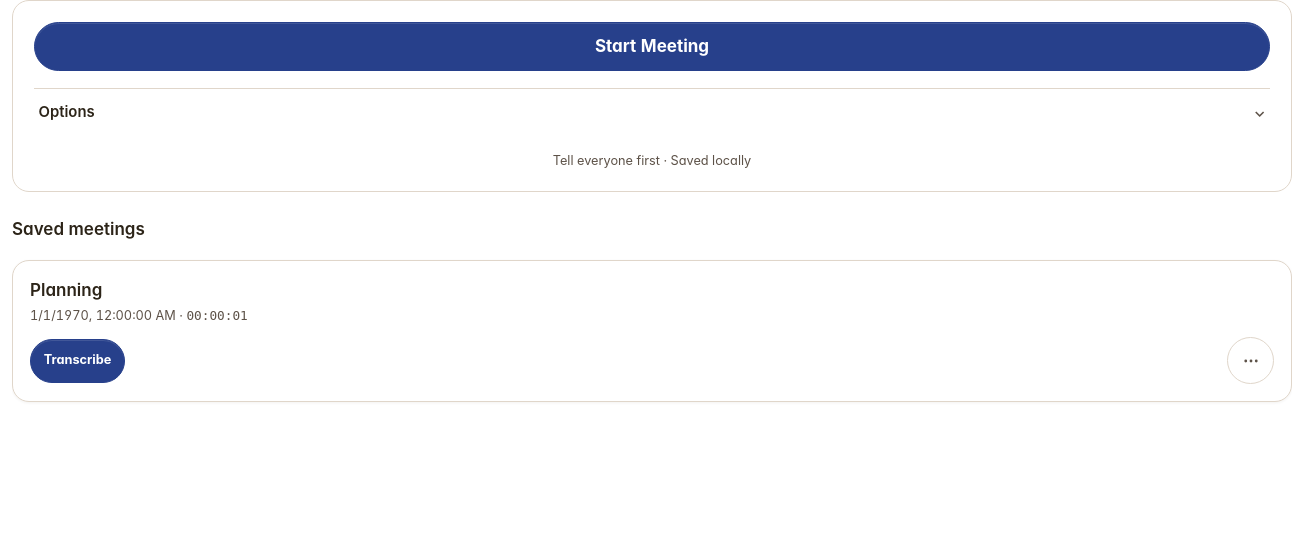
Meetings › requires inline confirmation before recoverable deletion
Click the button named "More actions for Planning": (1251, 361) [1227, 338, 1274, 384]
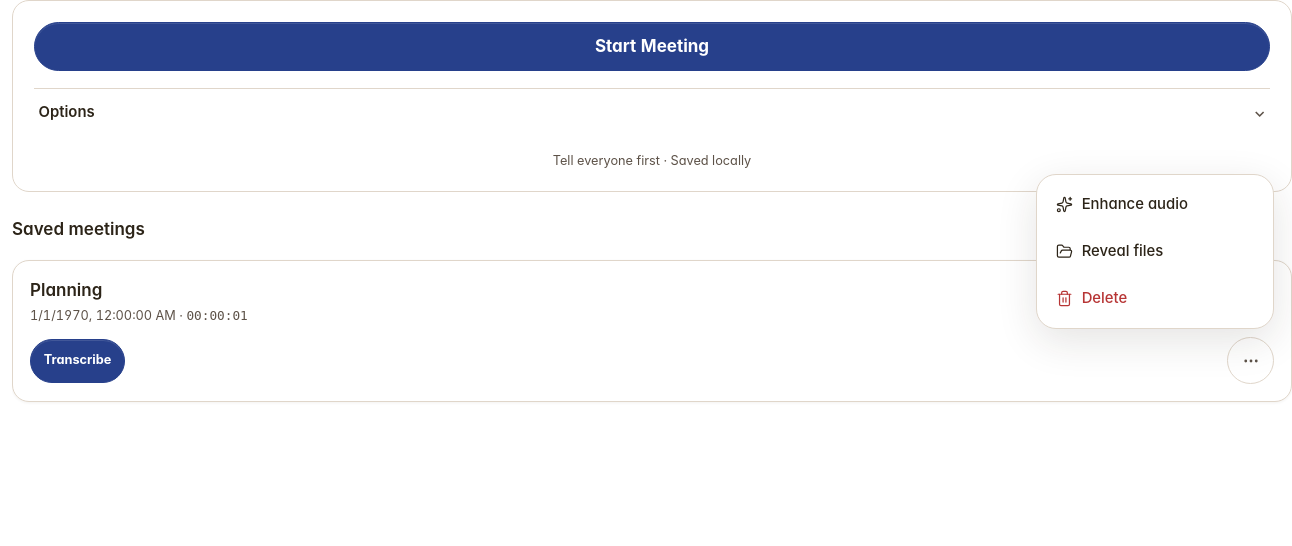
Expected: the menu item "Delete" is shown
Click the menu item "Delete": (1155, 298) [1043, 275, 1267, 322]
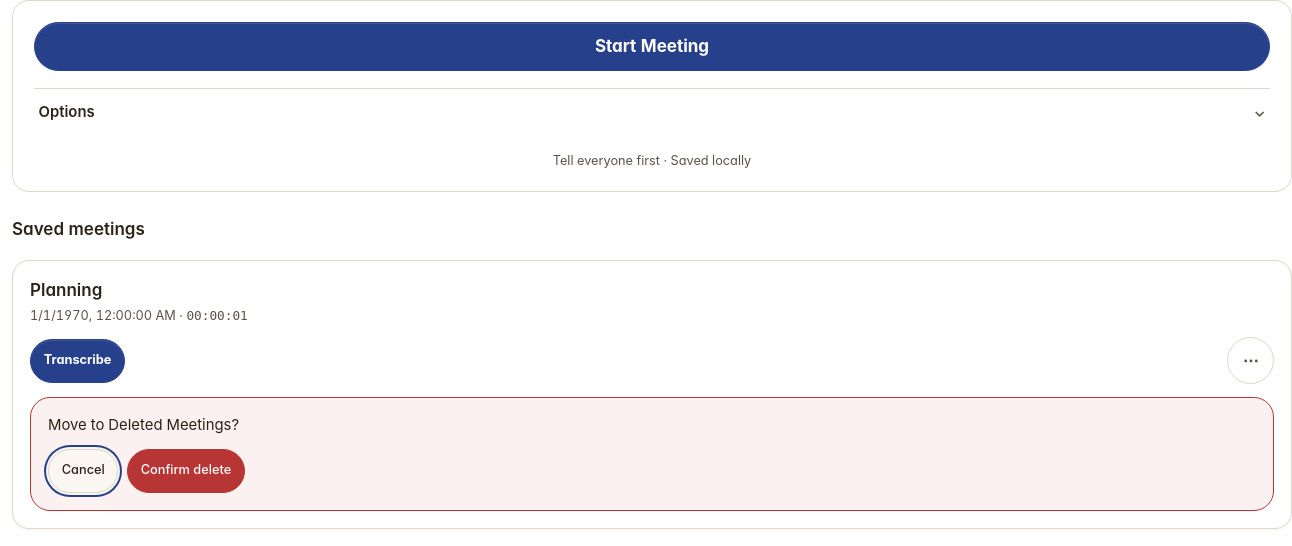
Expected: the button "Cancel" is shown
Click the button "Cancel": (83, 471) [48, 449, 118, 493]
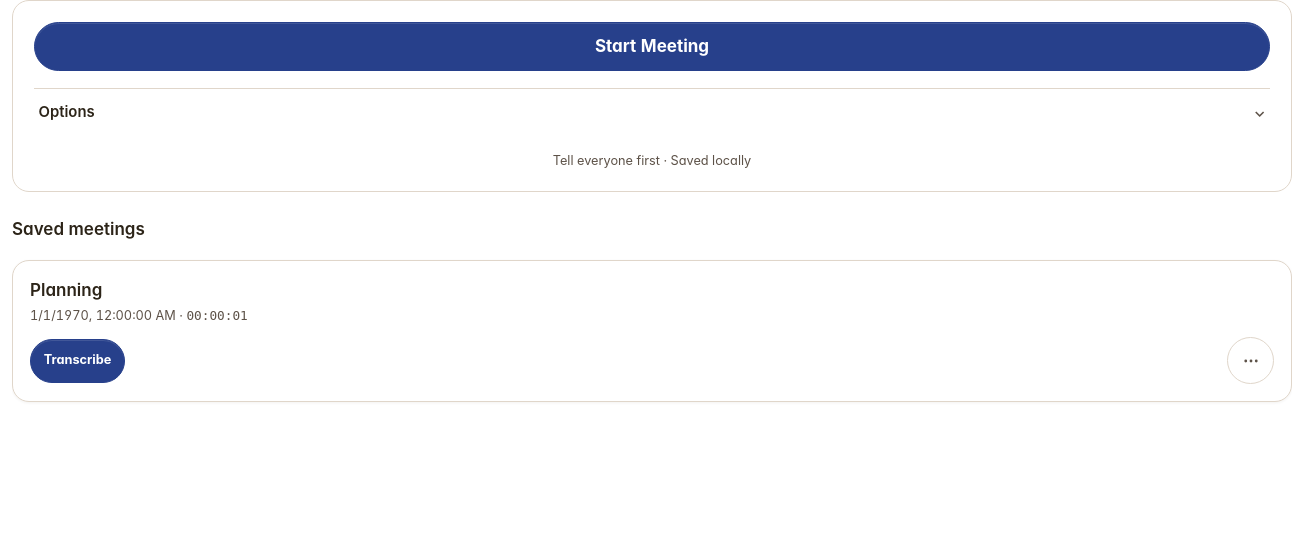
Click the button named "More actions for Planning": (1251, 361) [1227, 338, 1274, 384]
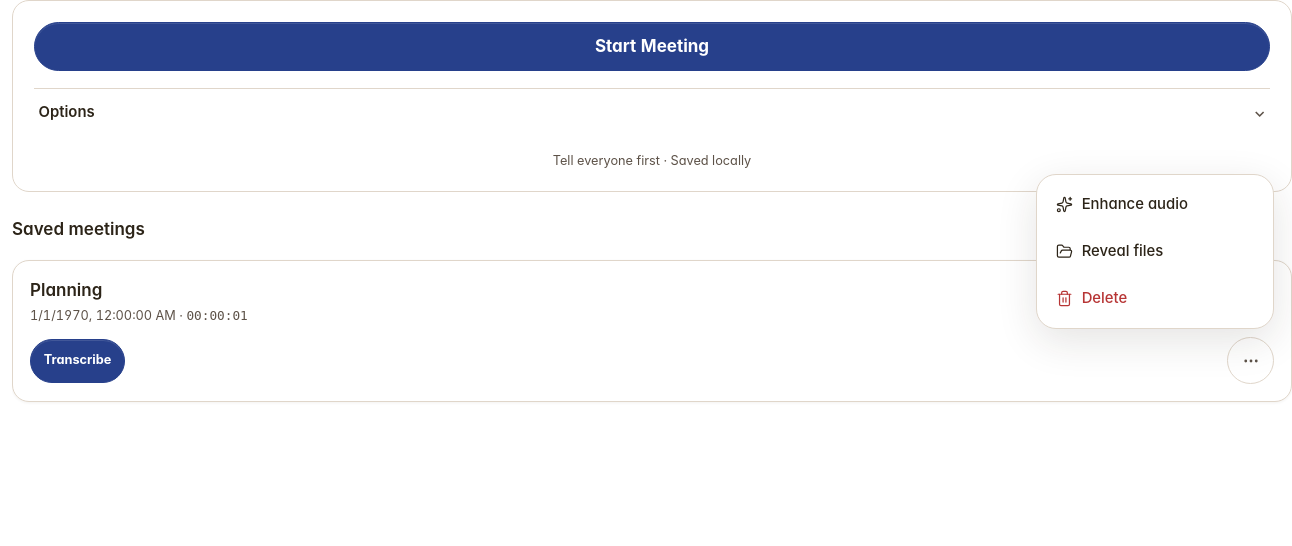
Expected: the menu item "Delete" is shown
Click the menu item "Delete": (1155, 298) [1043, 275, 1267, 322]
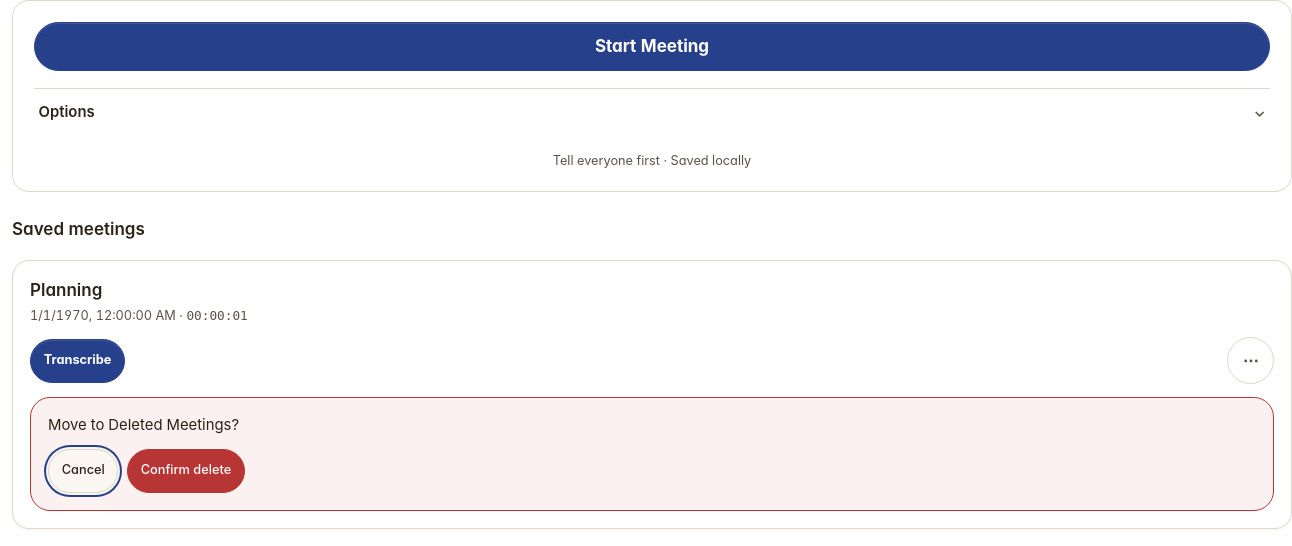
Expected: the button "Confirm delete" is shown
Click the button "Confirm delete": (186, 471) [127, 449, 245, 493]
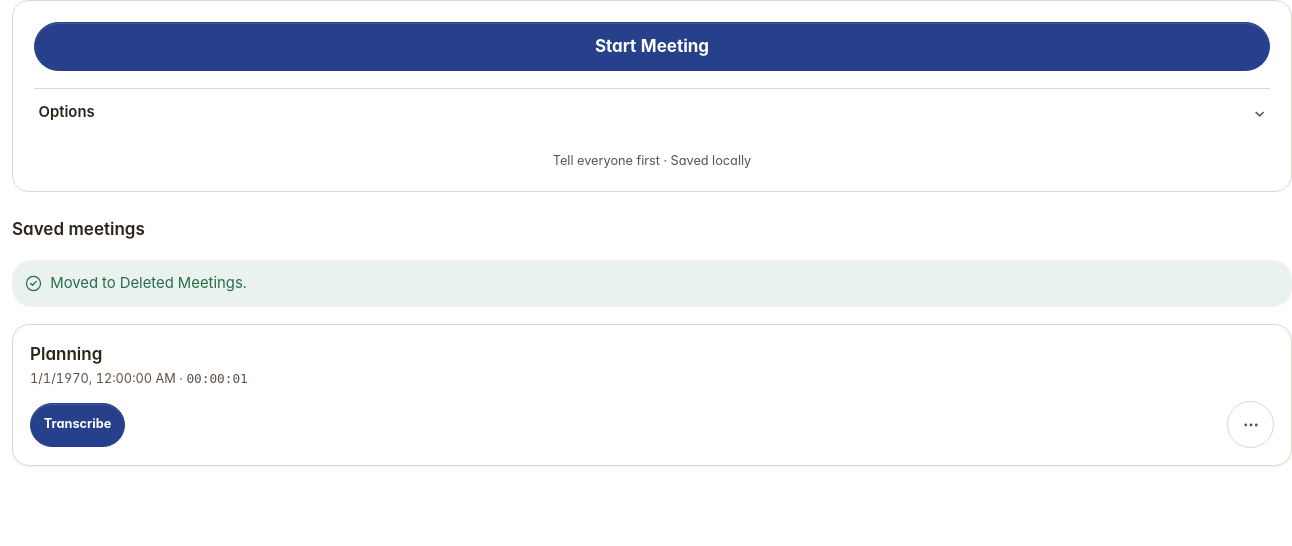
Expected: the text "Moved to Deleted Meetings." is shown, [12, 260, 1291, 307]
